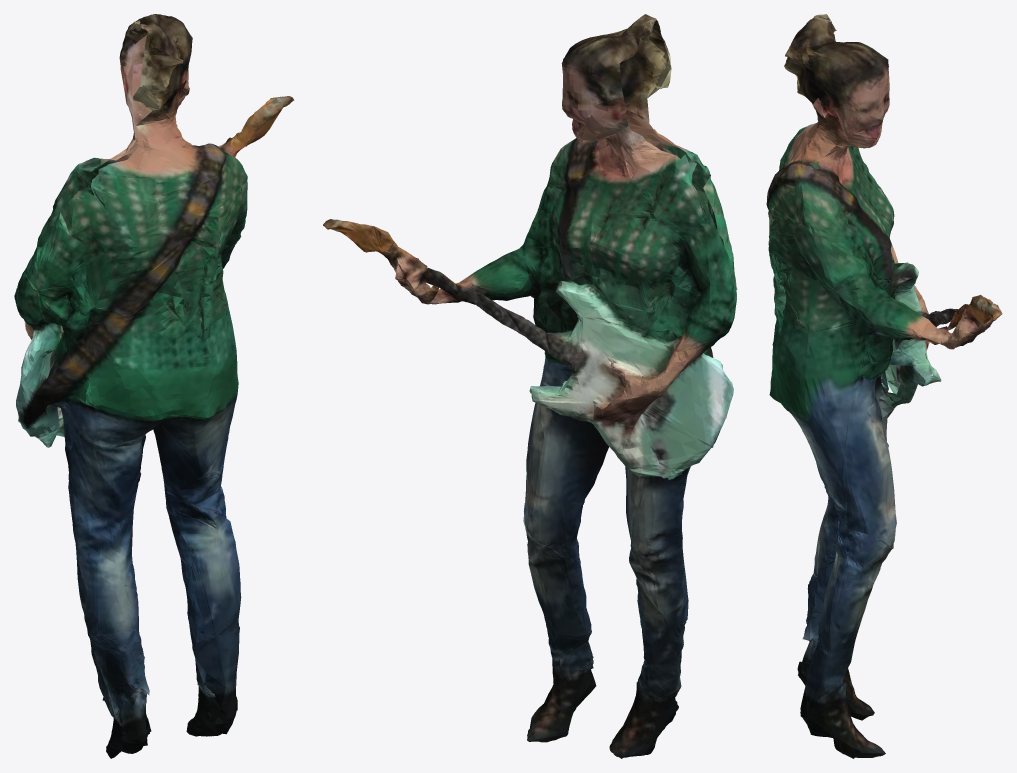
3 renders of one model, left to right at view 1: azimuth 30°, elevation 25°; view 2: azimuth 150°, elevation 25°; view 3: azimuth 270°, elevation 25°, orthographic. The views are drawn at different scales.
Visible parts, largest first — view 1: dec_0012; view 2: dec_0012; view 3: dec_0012.
Boxes of the visible parts, x1,y1,x2,y2 form: dec_0012: (14,14,294,758); dec_0012: (323,14,737,758); dec_0012: (766,14,1002,758).
Size of the model in its own units: 0.8462 by 1.73 by 0.5267.
Materials: 1 (1 with a texture image).
